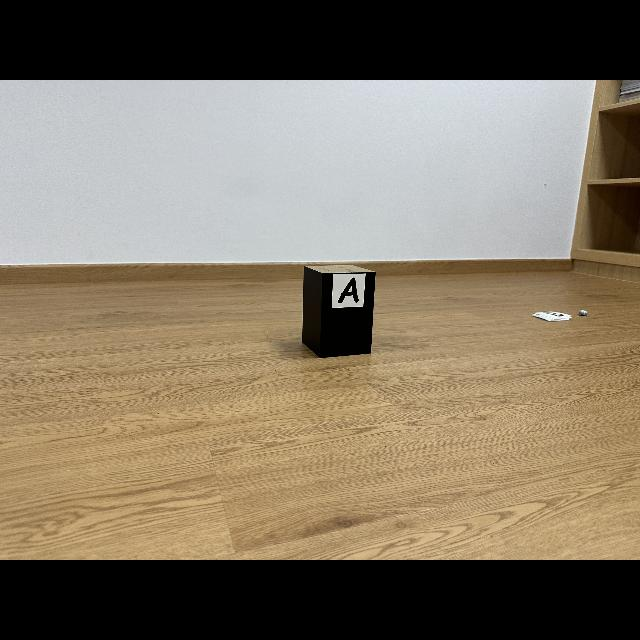A: (339, 278, 359, 304)
